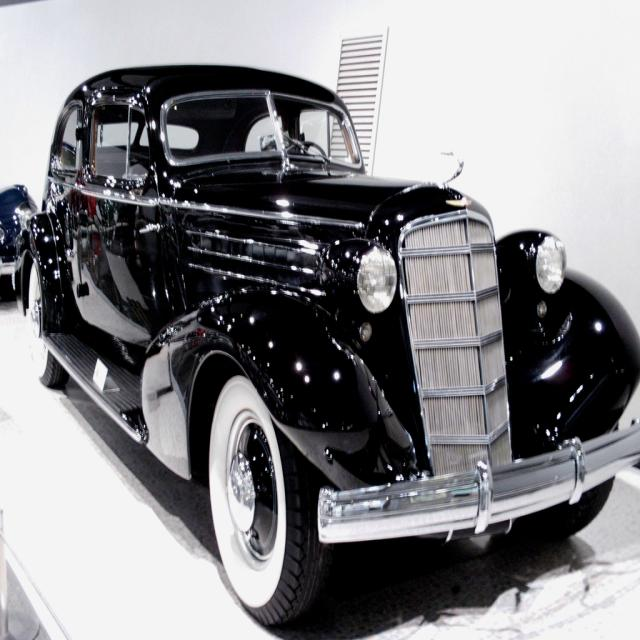car: (0, 60, 623, 618)
